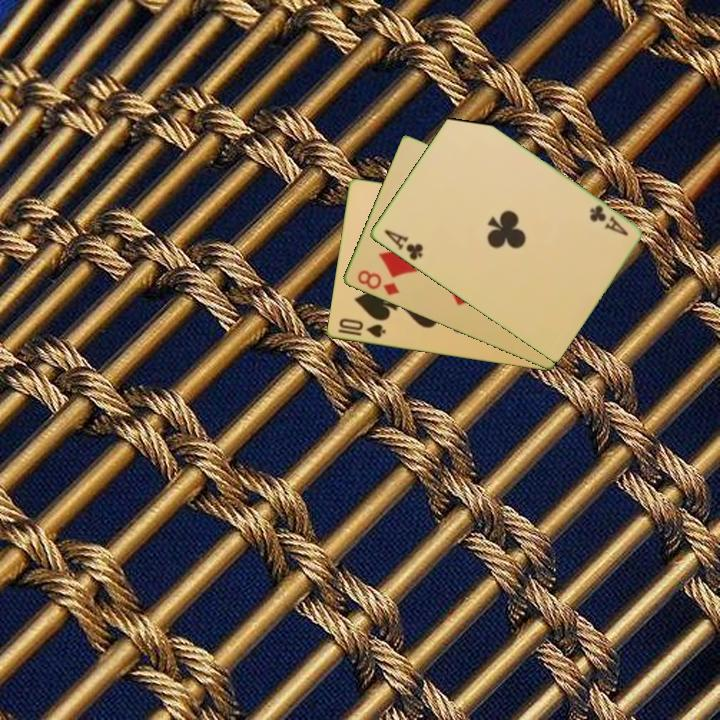10s: (335, 315, 388, 341)
8d: (353, 267, 402, 299)
Ac: (380, 226, 426, 264), (585, 202, 631, 239)
